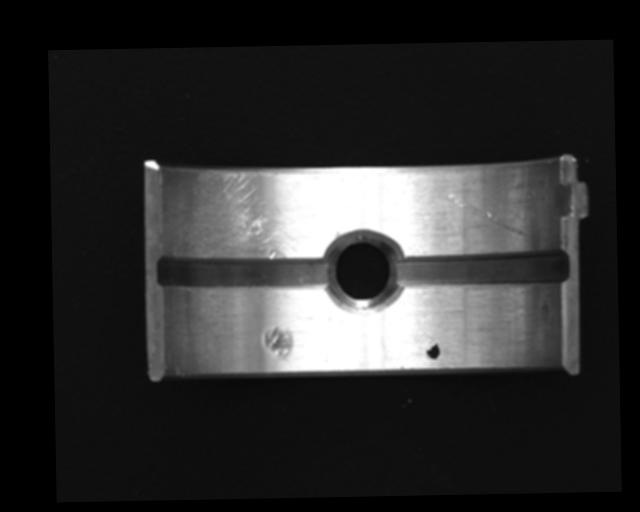blot: (424, 337, 440, 361)
bruise: (263, 324, 293, 363)
gap: (155, 250, 334, 292), (398, 250, 570, 288)
hole: (326, 230, 403, 314)
nick: (446, 190, 528, 238)
scratch: (170, 167, 329, 261)
